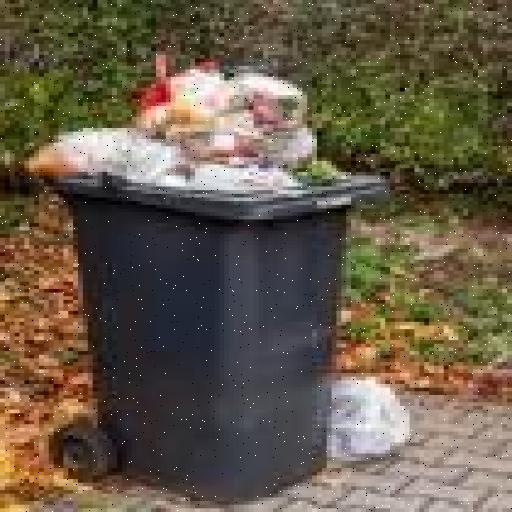poubelle_pleine: (30, 34, 400, 504)
